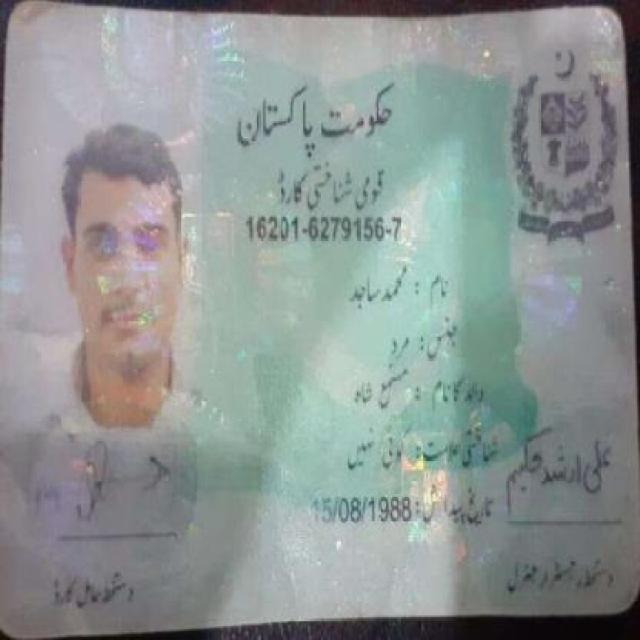Front: (9, 8, 625, 610)
